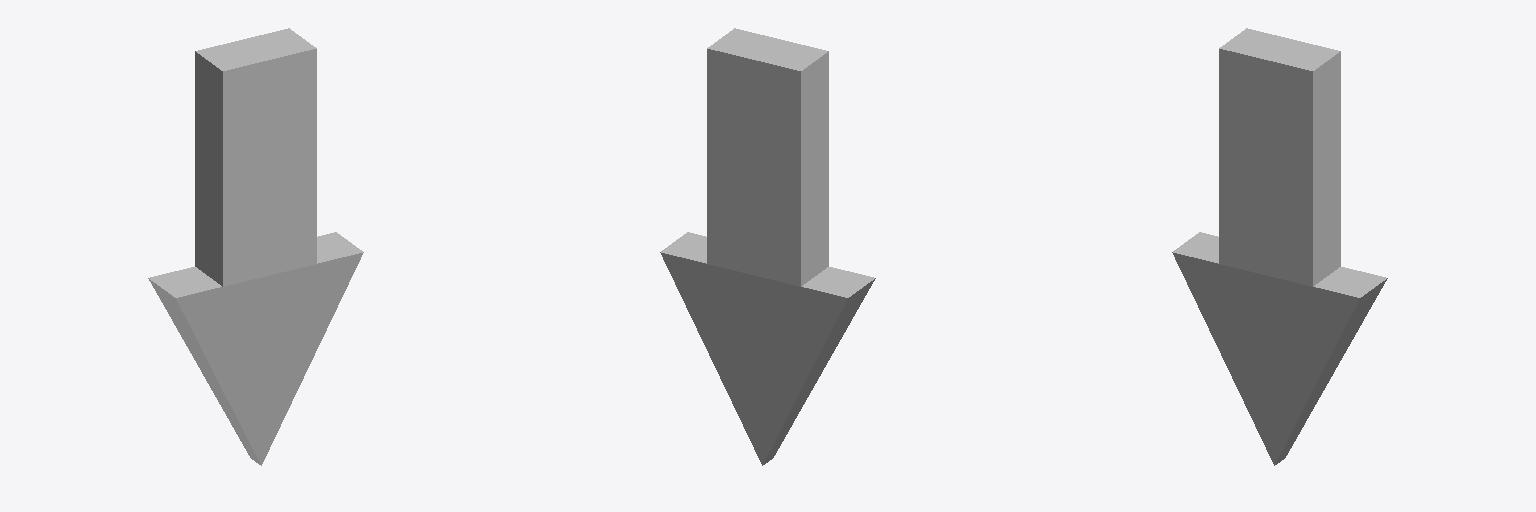
File: Arrow Down.obj
3 views of the same model, side by side, from view 1: azimuth 30°, elevation 25°; view 2: azimuth 150°, elevation 25°; view 3: azimuth 330°, elevation 25° (orthographic).
Parts seen in each view (by area): view 1: Arrow_Down:pCube3; view 2: Arrow_Down:pCube3; view 3: Arrow_Down:pCube3.
Part boxes in pixels (x1,y1,x2,y2): Arrow_Down:pCube3: (148,28,363,465); Arrow_Down:pCube3: (660,28,875,465); Arrow_Down:pCube3: (1172,28,1387,465).
Bounding box in the file's own units: 2 × 4.18 × 0.5087.